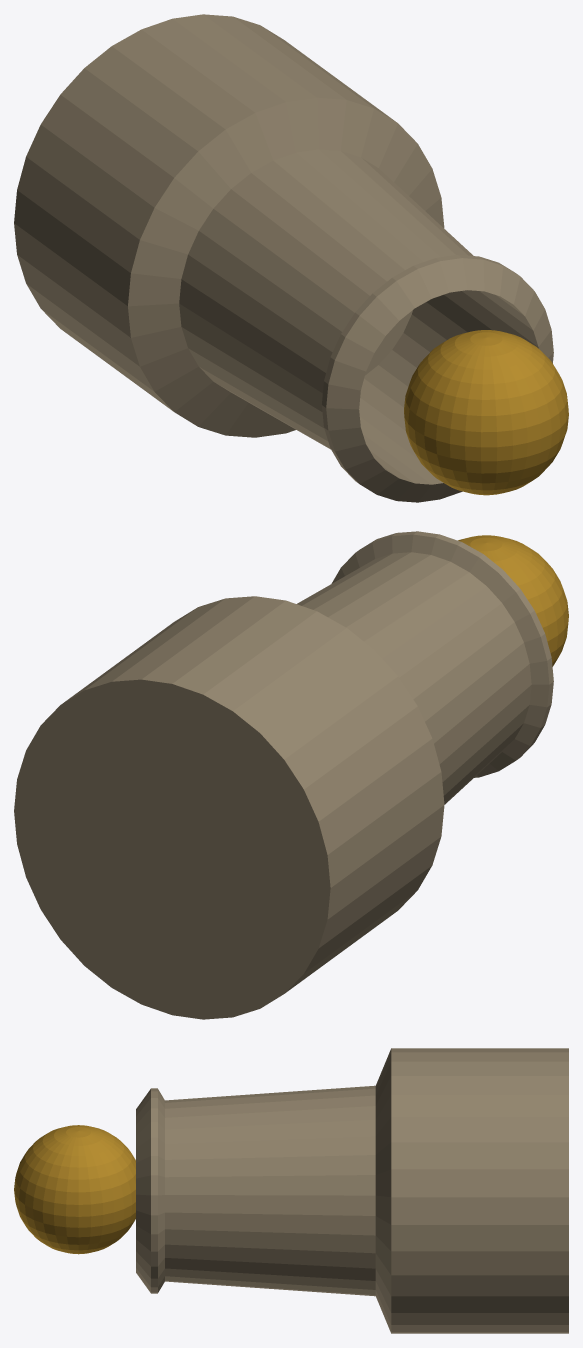
Rendered from physicsShot.fbx.
The picture shows the model from 3 angles, top to bottom: view 1: azimuth 30°, elevation 25°; view 2: azimuth 150°, elevation 25°; view 3: azimuth 270°, elevation 25°; orthographic projection. The views are drawn at different scales.
Visible parts, largest first — view 1: Physics Shot, Physics Ball; view 2: Physics Shot, Physics Ball; view 3: Physics Shot, Physics Ball.
Boxes of the visible parts, x1=… form: Physics Shot: x1=14, y1=14, x2=553, y2=502; Physics Ball: x1=404, y1=330, x2=568, y2=495; Physics Shot: x1=14, y1=531, x2=553, y2=1019; Physics Ball: x1=458, y1=535, x2=568, y2=666; Physics Shot: x1=136, y1=1048, x2=568, y2=1333; Physics Ball: x1=14, y1=1125, x2=135, y2=1254.
Bounding box in the file's own units: 158 × 158 × 307.
